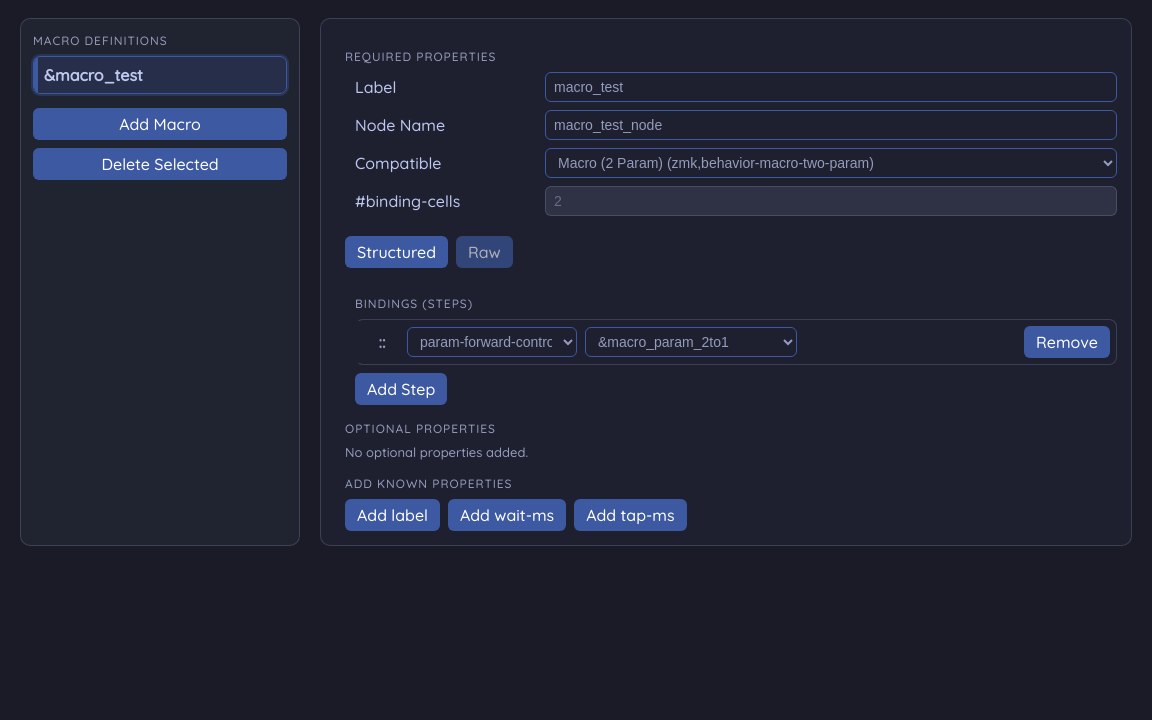
it: MacroEditor › blocks incompatible parameter forwarding
This screenshot has width=1152, height=720.
Select "Macro (1 Param) (zmk,behavior-macro-one-param)" in the dropdown named "Compatible" at (831, 163), box [545,148,1117,178]
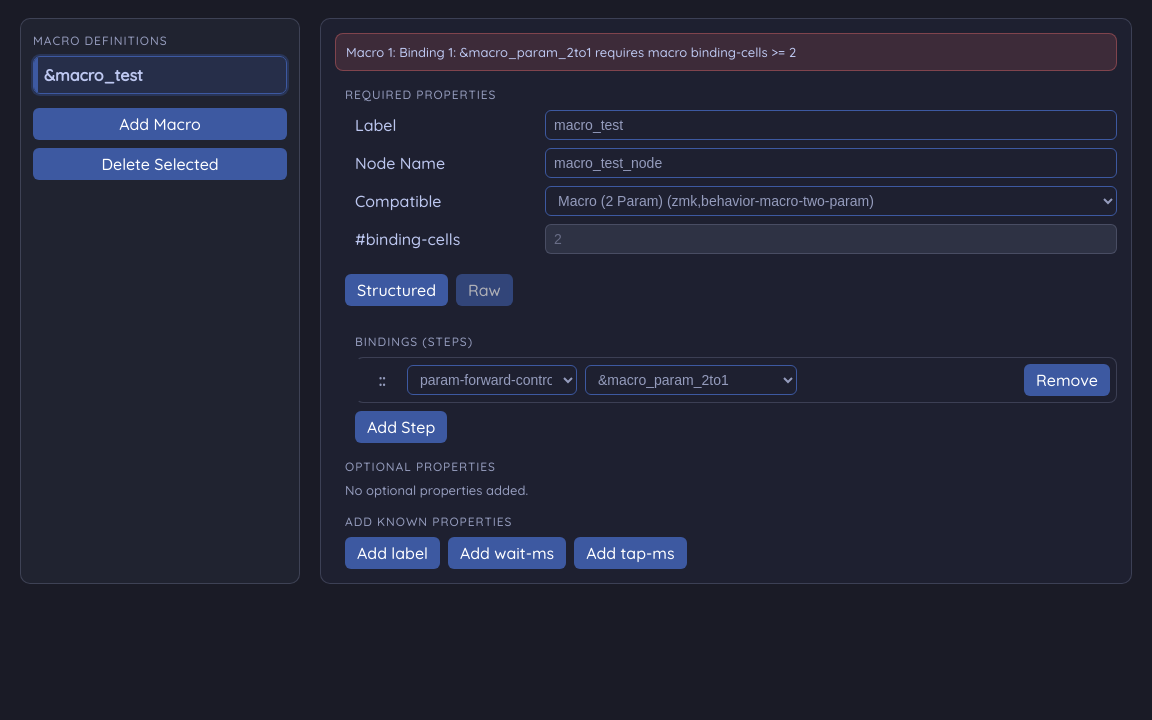
Expected: the text "requires macro binding-cells >= 2" is shown, [346,44,796,60]
